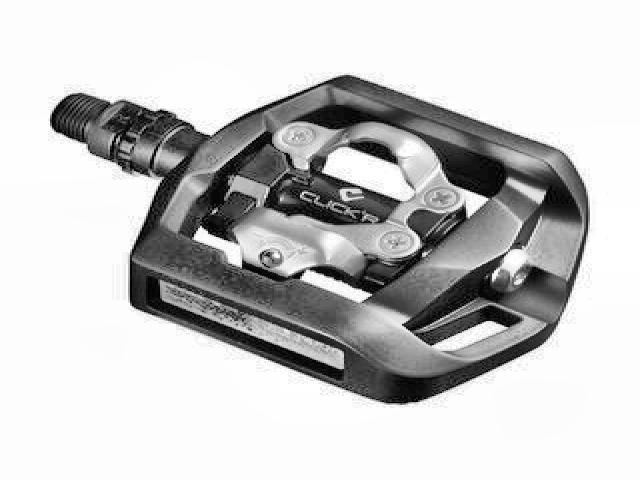pedal: (39, 74, 594, 406)
